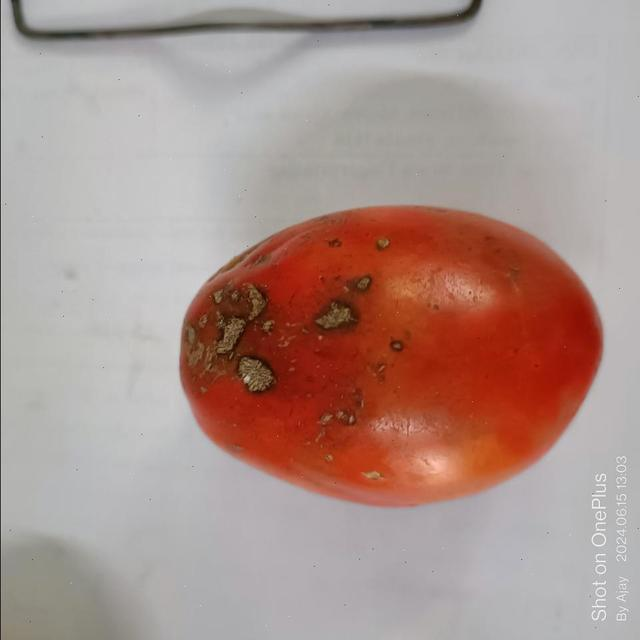Bacterial Spot Fruit: (4, 4, 263, 306)
